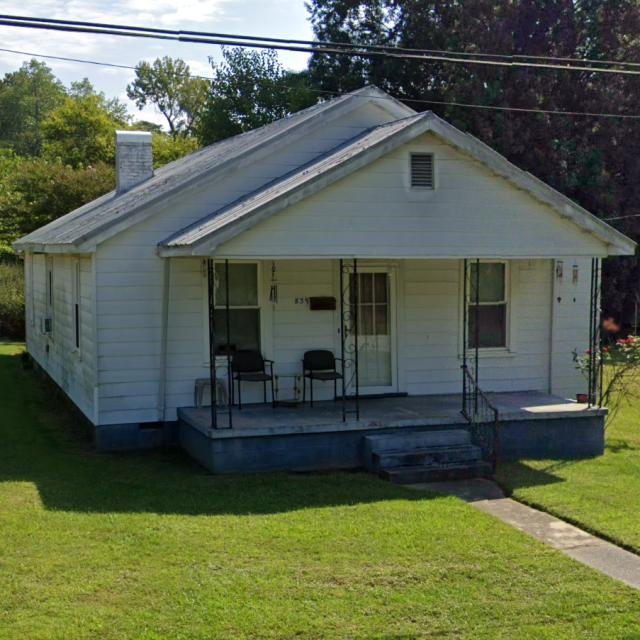House: (12, 84, 637, 485)
